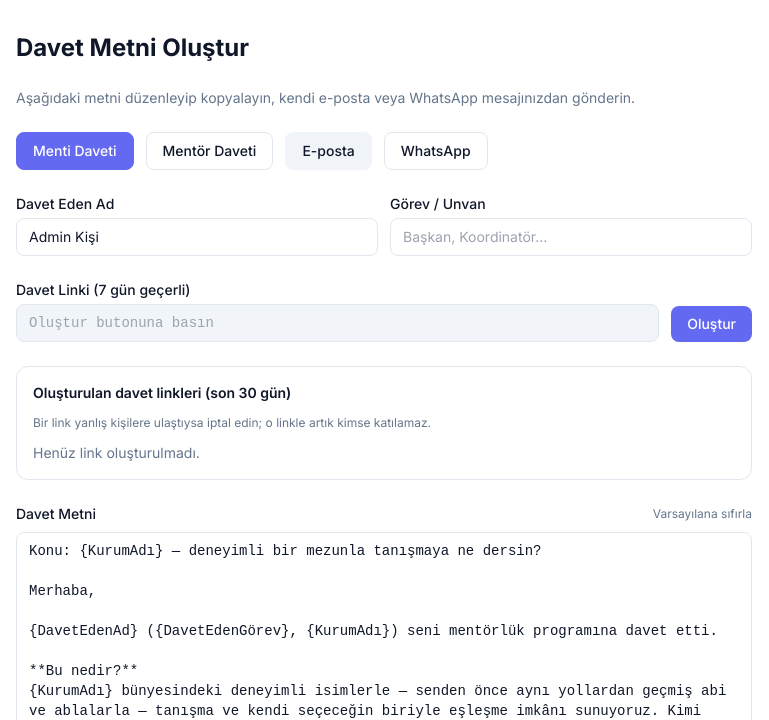
Test case: Davet Metni — U-03 › davet linki oluşturma başarısızsa hata mesajı gösterilir (eskiden sessizdi)
This screenshot has width=769, height=720.
Click the button "Oluştur" at coordinates (712, 324), box [671,306,752,342]
(page scrolled)
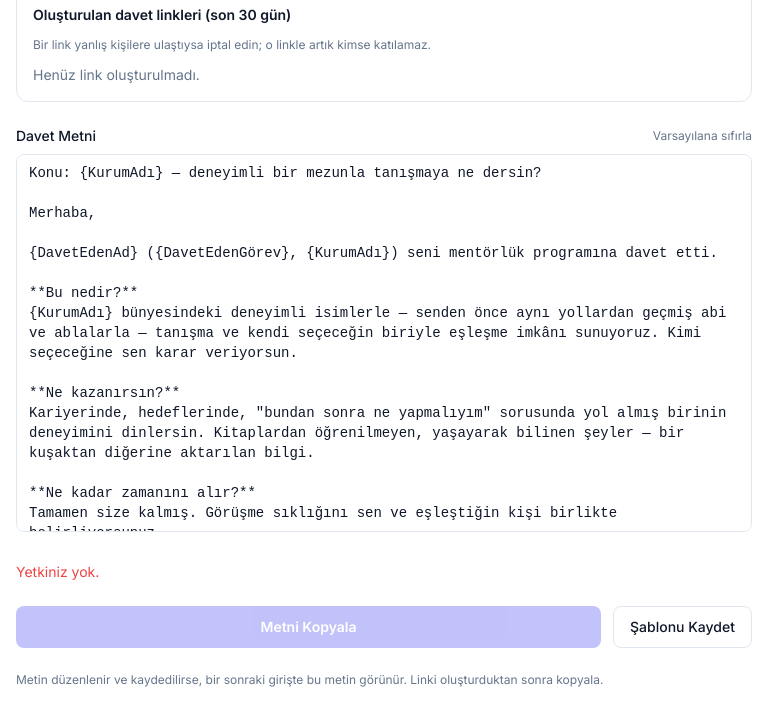
Now the text "Yetkiniz yok." is shown, box [16,563,99,580]
